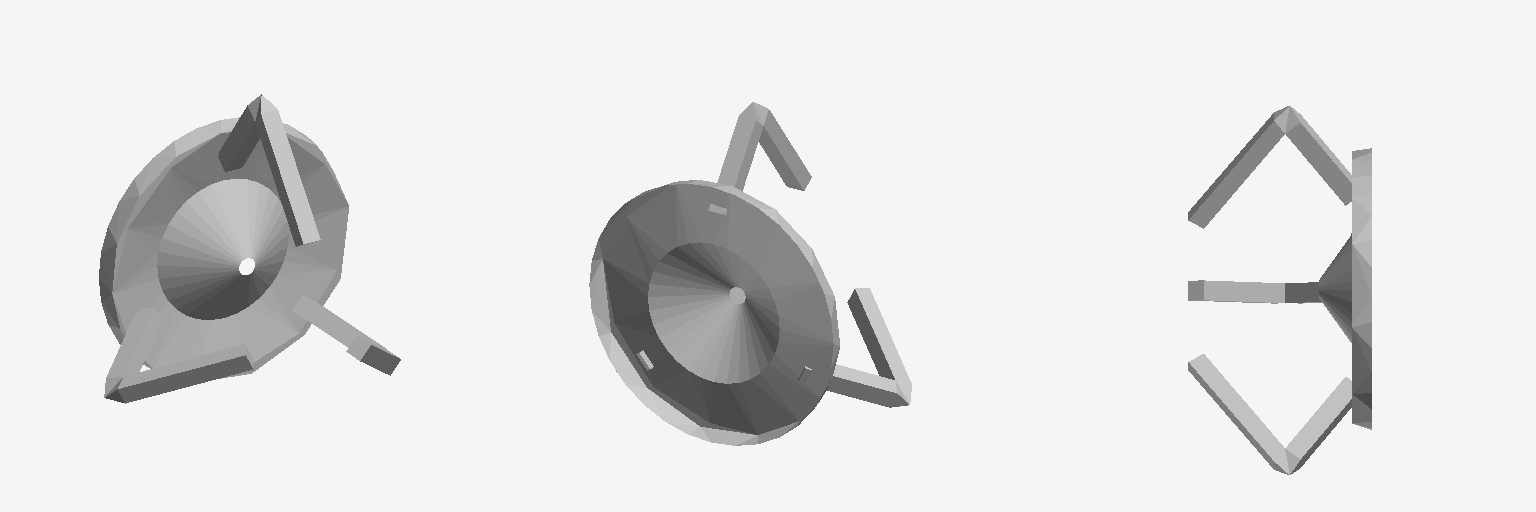
The model's file is generator.obj.
3 renders of one model, left to right at view 1: azimuth 30°, elevation 25°; view 2: azimuth 150°, elevation 25°; view 3: azimuth 270°, elevation 25°, orthographic.
Visible parts, largest first — view 1: Object.1; view 2: Object.1; view 3: Object.1.
Boxes of the visible parts, x1,y1,x2,y2 form: Object.1: [99, 94, 400, 403]; Object.1: [589, 102, 911, 445]; Object.1: [1188, 106, 1371, 474].
Bounding box in the file's own units: 71.11 × 71.96 × 38.42.